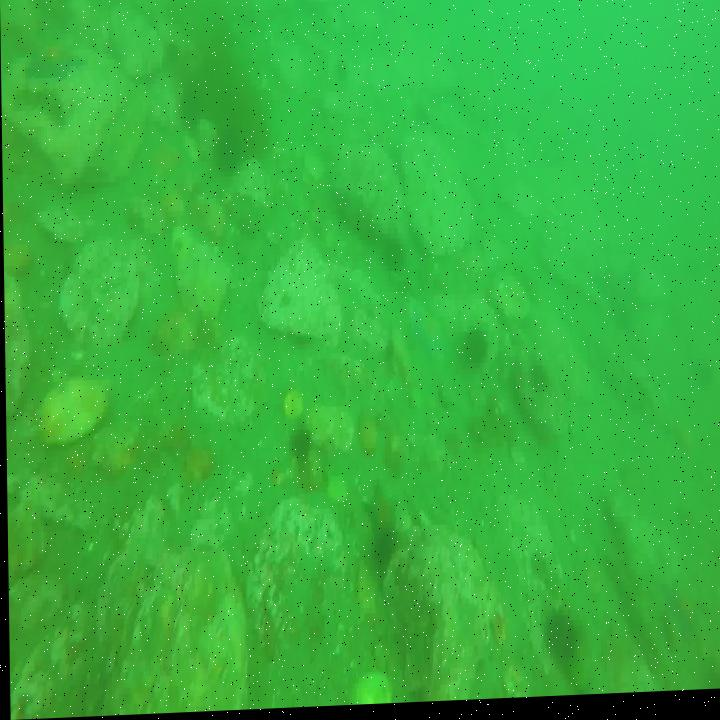echinus: (546, 613, 578, 670), (379, 231, 406, 281), (373, 534, 399, 578), (465, 328, 488, 371), (292, 426, 314, 461), (218, 134, 241, 167), (531, 365, 547, 403), (334, 59, 349, 86)
starfish: (27, 47, 91, 84), (361, 488, 398, 546), (411, 313, 444, 365)
